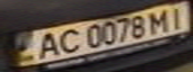0: (81, 21, 106, 48), (100, 19, 121, 46)
7: (115, 16, 133, 43)
8: (127, 12, 151, 38)
A: (30, 29, 63, 60)
C: (51, 26, 84, 55)
I: (163, 3, 190, 30)
M: (145, 7, 175, 34)
